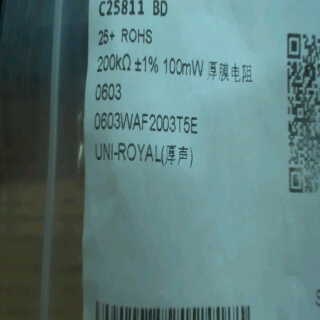200kR: (95, 51, 133, 80)
